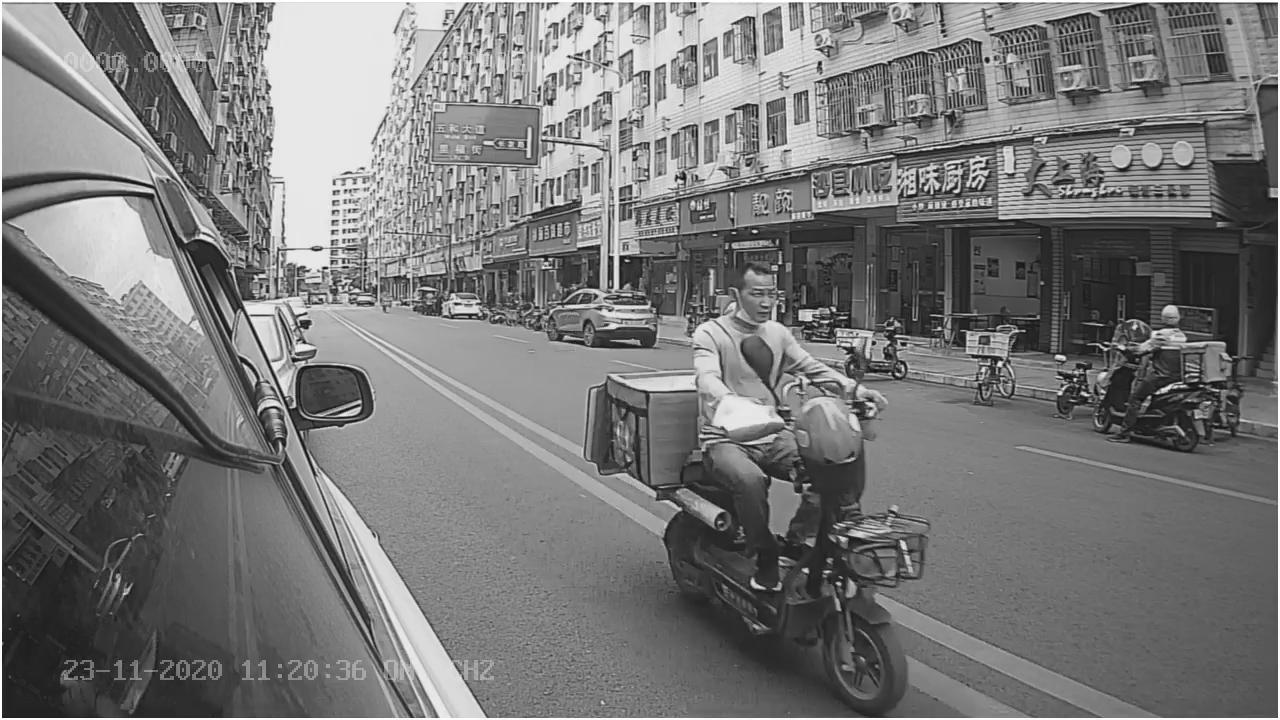person: (691, 255, 842, 380)
